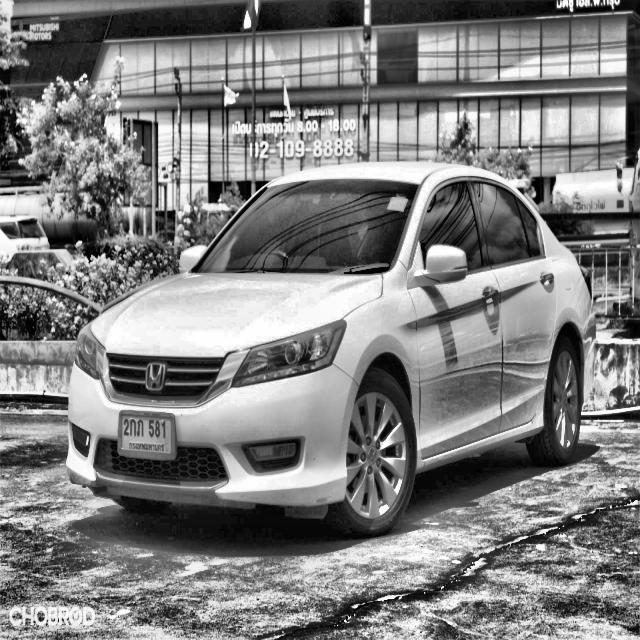license-plate: (116, 406, 179, 466)
